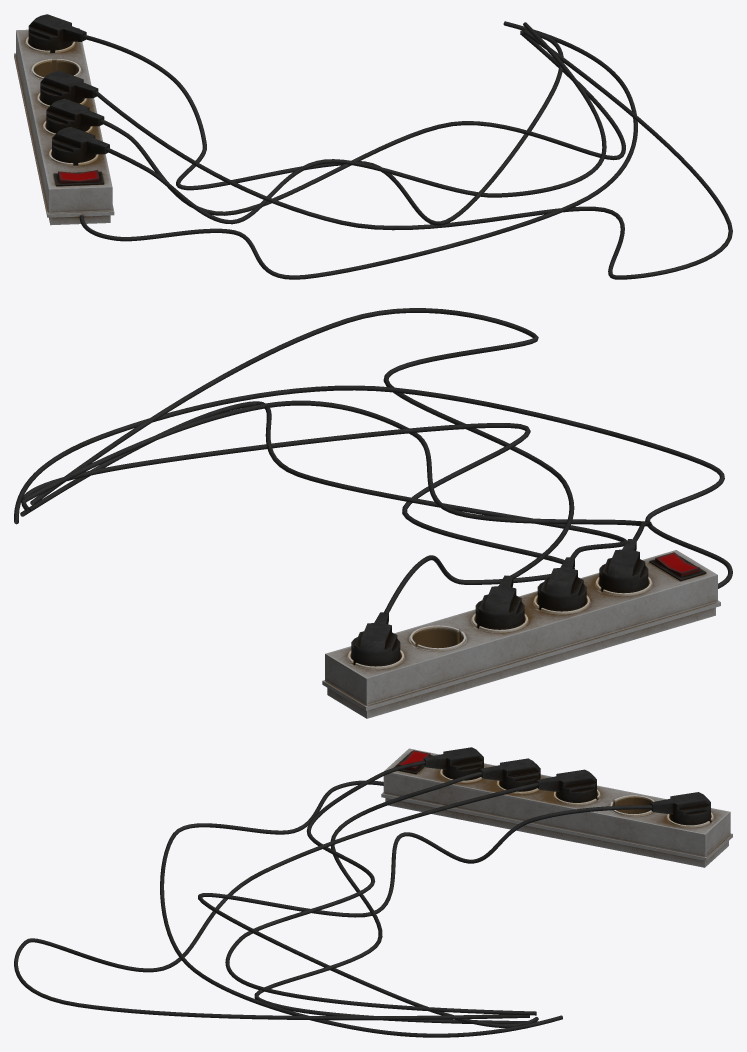
Rendered from SM_PlugExtensionA01.fbx.
3 views of the same model, one above another, from view 1: azimuth 30°, elevation 25°; view 2: azimuth 150°, elevation 25°; view 3: azimuth 270°, elevation 25° (orthographic). The views are drawn at different scales.
Parts seen in each view (by area): view 1: SM_PlugExtensionA01; view 2: SM_PlugExtensionA01; view 3: SM_PlugExtensionA01.
Boxes of the visible parts, x1,y1,x2,y2 form: SM_PlugExtensionA01: (14, 14, 732, 279); SM_PlugExtensionA01: (14, 308, 732, 718); SM_PlugExtensionA01: (14, 747, 732, 1037).
Size of the model in its own units: 123 by 142 by 12.32.
